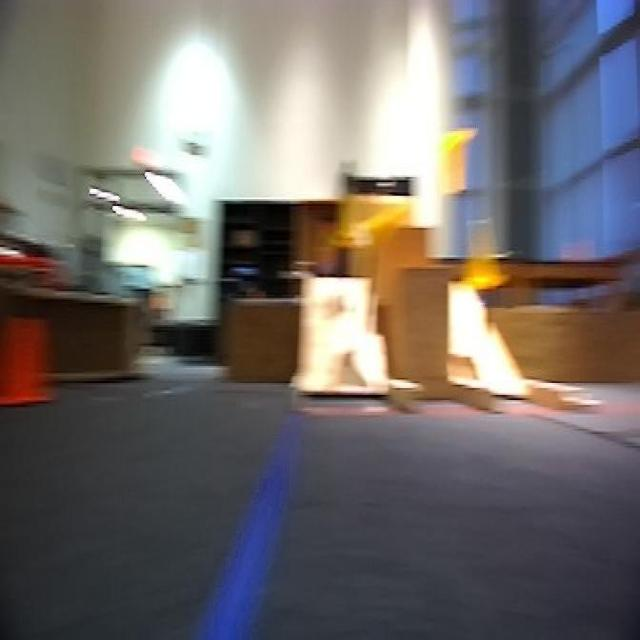frc_cone: (459, 208, 511, 303), (434, 119, 476, 199), (366, 201, 414, 255), (338, 187, 369, 252)
